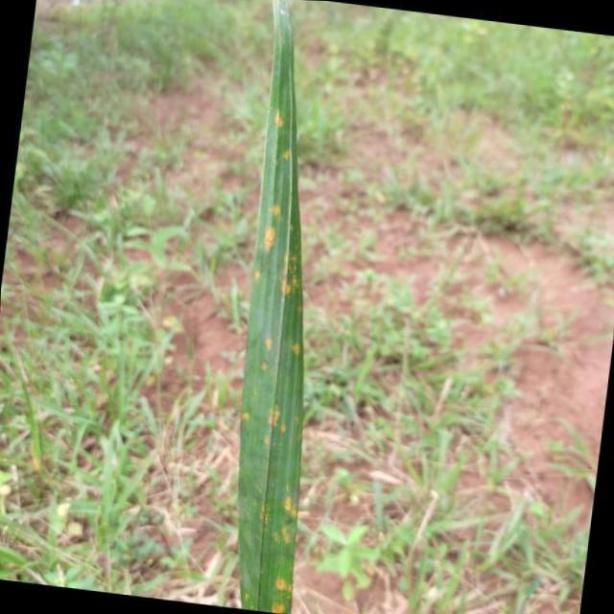Kalium: (235, 1, 308, 614)
